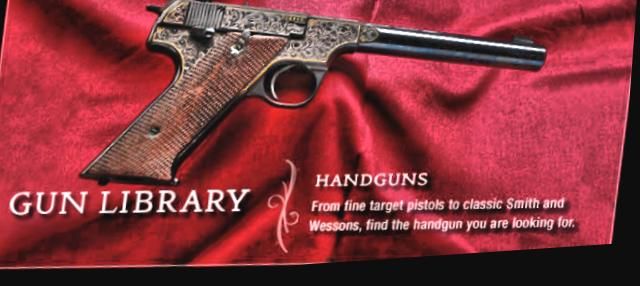pistol: (67, 0, 556, 209)
